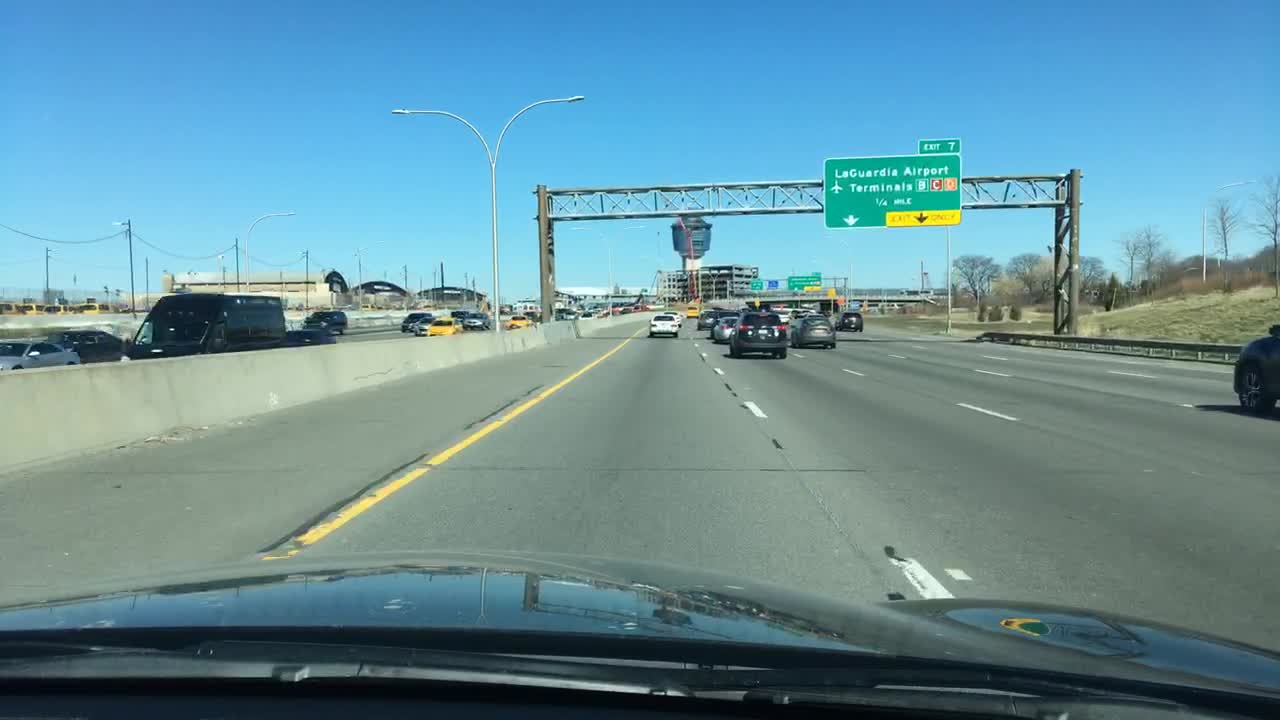car: (132, 292, 287, 359), (1232, 321, 1279, 415), (730, 309, 787, 358), (0, 339, 85, 371), (46, 329, 130, 361), (788, 313, 837, 353), (307, 310, 348, 334), (289, 327, 336, 346), (647, 312, 679, 339), (712, 314, 739, 341), (427, 319, 463, 337), (839, 313, 864, 335), (402, 314, 429, 334), (69, 300, 113, 312), (466, 312, 493, 331), (695, 308, 712, 330), (505, 315, 530, 327), (559, 307, 579, 319), (40, 300, 62, 310), (15, 304, 37, 314), (683, 303, 695, 319), (0, 300, 13, 314), (449, 309, 467, 317), (579, 310, 592, 319), (616, 305, 629, 313)
traffic sign: (820, 157, 962, 226), (917, 138, 962, 159), (791, 274, 823, 289), (749, 278, 776, 291), (768, 279, 778, 293)
